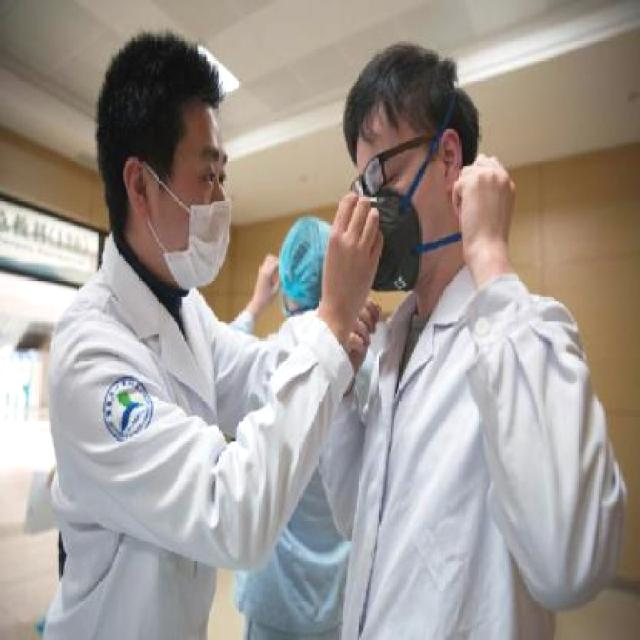face_mask: (132, 114, 240, 298), (352, 124, 438, 304)
glasses: (336, 137, 419, 200)
hand_noglove: (323, 189, 386, 308), (452, 152, 517, 246), (348, 297, 382, 360), (259, 249, 283, 309)
head_nohelmet: (351, 30, 443, 136), (114, 45, 240, 117)
person: (298, 32, 611, 640), (29, 18, 322, 640)
